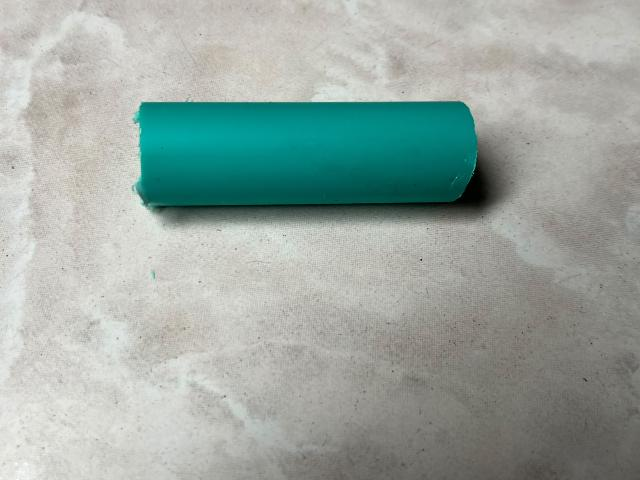PVC: (130, 76, 508, 267)
